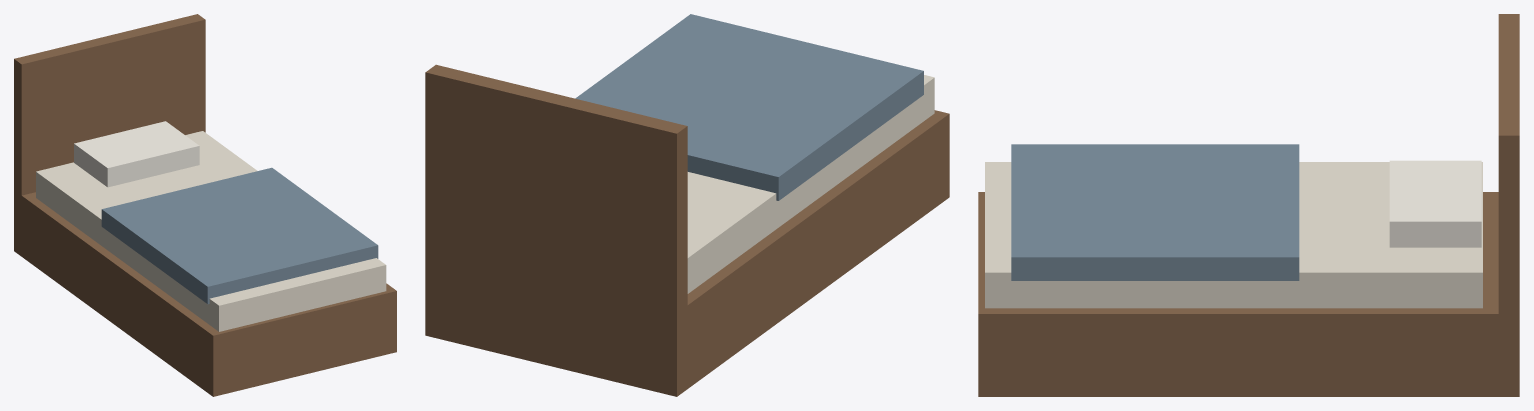
File: bed_single.glb
3 views of the same model, side by side, from view 1: azimuth 30°, elevation 25°; view 2: azimuth 150°, elevation 25°; view 3: azimuth 270°, elevation 25° (orthographic). The views are drawn at different scales.
Parts seen in each view (by area): view 1: furniture; view 2: furniture; view 3: furniture.
Part boxes in pixels (bbox=[...]): furniture: bbox=[14, 14, 396, 396]; furniture: bbox=[425, 14, 949, 396]; furniture: bbox=[978, 14, 1519, 396].
Size of the model in its own units: 1.1 by 1.1 by 2.06.
